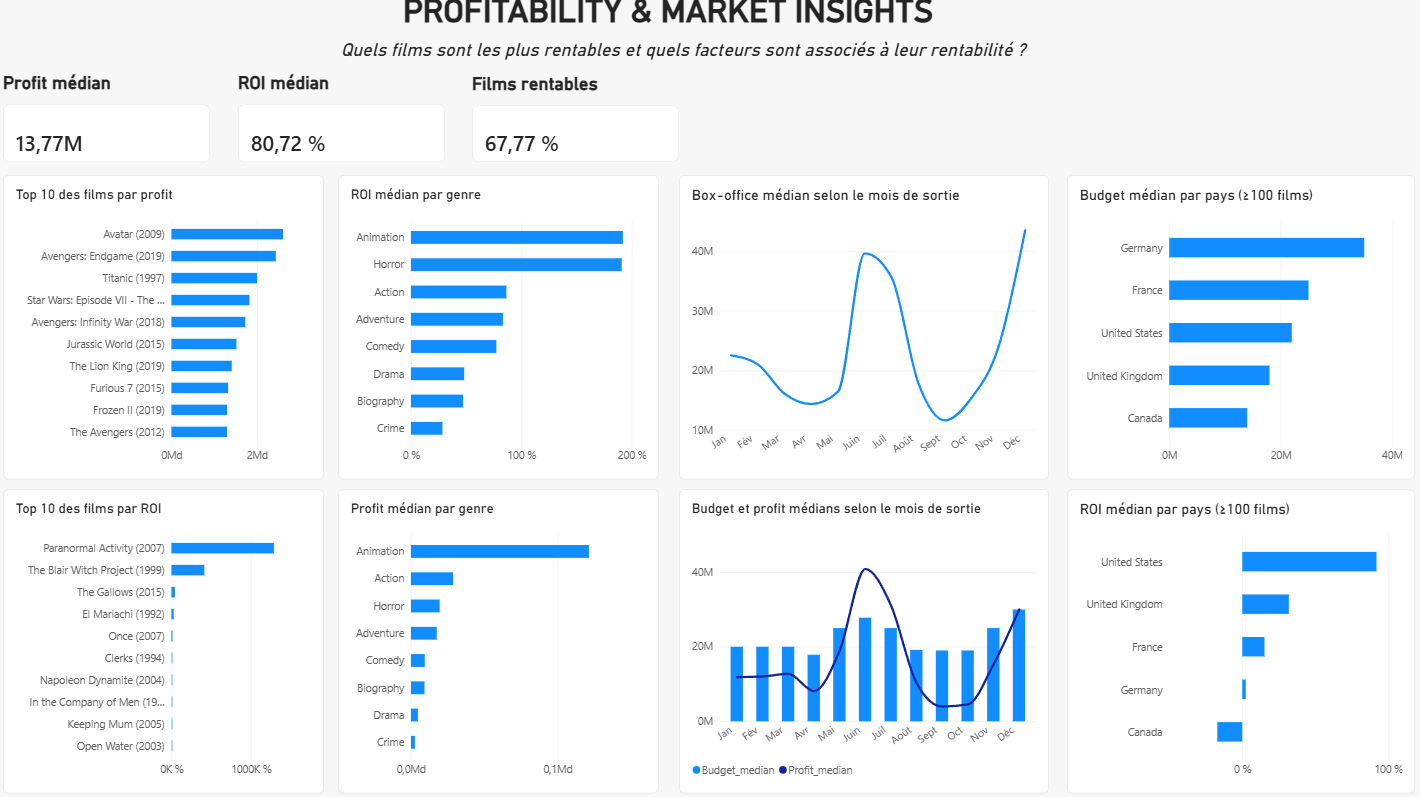

Layout of this report page (visuals, bound fields, positions):
{"tool":"powerbi","page":{"name":"PROFITABILITY & MARKET INSIGHTS","canvas":[1920,1080],"ordinal":2},"visuals":[{"type":"textbox","box":[557.1,0,611.4,50],"z":0},{"type":"textbox","box":[470.8,61.7,1064.3,300],"z":1000},{"type":"textbox","box":[553.3,-0.8,841.4,62.9],"z":2000},{"type":"cardVisual","title":"Profit médian","fields":{"Data":["movies_clean.Profit_median"]},"box":[21.7,105,275,120],"z":3000},{"type":"cardVisual","title":"ROI médian","fields":{"Data":["movies_clean.ROI_Median"]},"box":[333.3,105,275,120],"z":4000},{"type":"cardVisual","title":"Films rentables","fields":{"Data":["movies_clean.Pct_Films_Rentables"]},"box":[645,106.7,275,118.3],"z":5000},{"type":"barChart","title":"Top 10 des films par profit","fields":{"Category":["movies_clean.Film"],"Y":["Max(movies_clean.profit)"]},"box":[21.7,241.7,426.7,405],"z":6000},{"type":"barChart","title":"Top 10 des films par ROI","fields":{"Category":["movies_clean.Film"],"Y":["Max(movies_clean.ROI_DAX)"]},"box":[21.7,660,426.7,405],"z":7000},{"type":"barChart","title":"ROI médian par genre","fields":{"Category":["movies_clean.genre"],"Y":["Median(movies_clean.ROI_DAX)"]},"box":[466.7,241.7,426.7,405],"z":8000},{"type":"barChart","title":"Profit médian par genre","fields":{"Category":["movies_clean.genre"],"Y":["movies_clean.Profit_median"]},"box":[466.7,660,426.7,405],"z":9000},{"type":"lineChart","title":"Box-office médian selon le mois de sortie","fields":{"Category":["movies_clean.Nom_Mois"],"Y":["movies_clean.Recette_Médiane"]},"box":[920,241.7,491.7,405],"z":10000},{"type":"lineClusteredColumnComboChart","title":"Budget et profit médians selon le mois de sortie","fields":{"Category":["movies_clean.Nom_Mois"],"Y":["movies_clean.Budget_median"],"Y2":["movies_clean.Profit_median"]},"box":[920,660,491.7,405],"z":12000},{"type":"barChart","title":"Budget médian par pays (≥100 films)","fields":{"Category":["movies_clean.country"],"Y":["movies_clean.Budget_median"]},"box":[1436.7,241.7,463.3,405],"z":12001},{"type":"barChart","title":"ROI médian par pays (≥100 films)","fields":{"Category":["movies_clean.country"],"Y":["movies_clean.ROI_Median"]},"box":[1436.7,660,463.3,405],"z":12002}]}

Visuals, with their boxes in screenshot pixels (x1, y1, x2, y2), scaled from the page's 1920x1080 canvas onto the 1420x797 screenshot:
textbox: <region>412, 0, 864, 37</region>
textbox: <region>348, 46, 1135, 267</region>
textbox: <region>409, 0, 1031, 46</region>
"Profit médian" cardVisual: <region>16, 77, 219, 166</region>
"ROI médian" cardVisual: <region>247, 77, 450, 166</region>
"Films rentables" cardVisual: <region>477, 79, 680, 166</region>
"Top 10 des films par profit" barChart: <region>16, 178, 332, 477</region>
"Top 10 des films par ROI" barChart: <region>16, 487, 332, 786</region>
"ROI médian par genre" barChart: <region>345, 178, 661, 477</region>
"Profit médian par genre" barChart: <region>345, 487, 661, 786</region>
"Box-office médian selon le mois de sortie" lineChart: <region>680, 178, 1044, 477</region>
"Budget et profit médians selon le mois de sortie" lineClusteredColumnComboChart: <region>680, 487, 1044, 786</region>
"Budget médian par pays (≥100 films)" barChart: <region>1063, 178, 1405, 477</region>
"ROI médian par pays (≥100 films)" barChart: <region>1063, 487, 1405, 786</region>
